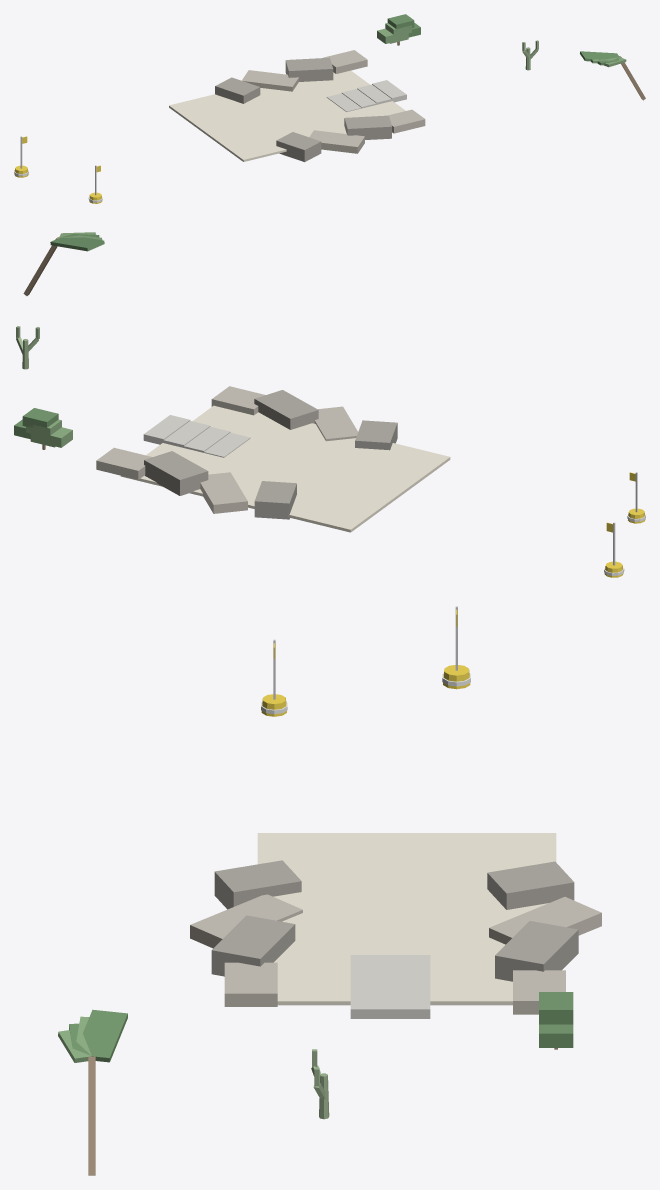
The model's file is nw_malmok_cove.glb.
3 renders of one model, top to bottom at view 1: azimuth 30°, elevation 25°; view 2: azimuth 150°, elevation 25°; view 3: azimuth 270°, elevation 25°, orthographic. The views are drawn at different scales.
Visible parts, largest first — view 1: nw_malmok_cove_lod0; view 2: nw_malmok_cove_lod0; view 3: nw_malmok_cove_lod0.
Boxes of the visible parts, bbox=[...] form: nw_malmok_cove_lod0: bbox=[14, 14, 645, 203]; nw_malmok_cove_lod0: bbox=[14, 232, 645, 577]; nw_malmok_cove_lod0: bbox=[58, 606, 601, 1175].
Size of what is drawn, in the model's own units: 37.54 by 4.49 by 16.41.
